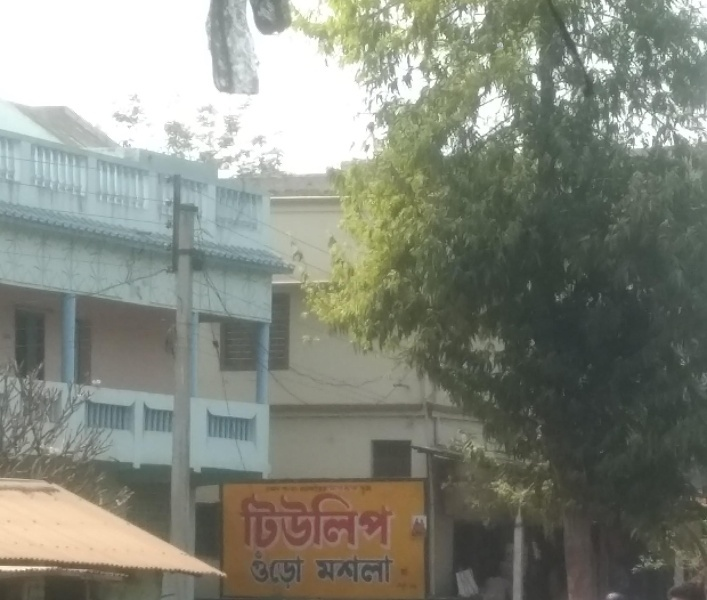text: (241, 494, 256, 549), (257, 494, 272, 549), (273, 494, 288, 549), (289, 494, 304, 549), (305, 494, 320, 549), (321, 494, 336, 549), (337, 494, 352, 549), (353, 494, 368, 549), (369, 494, 384, 549), (257, 550, 272, 592), (273, 550, 288, 592), (289, 550, 304, 592), (385, 494, 394, 549), (321, 556, 336, 585), (337, 556, 352, 585), (353, 556, 368, 585), (369, 556, 384, 585), (385, 556, 395, 585), (250, 550, 256, 592), (273, 483, 288, 494), (289, 483, 304, 494), (305, 483, 320, 494), (321, 483, 336, 494), (337, 483, 352, 494), (353, 483, 368, 494), (369, 483, 384, 494), (315, 556, 320, 585), (264, 483, 272, 494), (239, 494, 240, 549), (385, 483, 389, 494)
